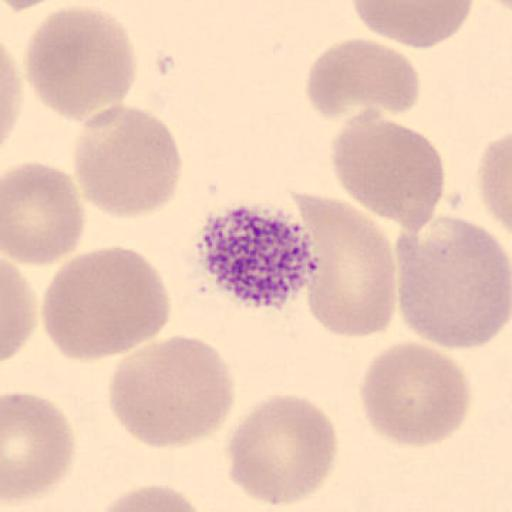Platelet: (196, 203, 322, 312)
RBC: (294, 191, 398, 341), (396, 214, 511, 348), (40, 246, 172, 362), (108, 333, 236, 450), (330, 115, 445, 235), (23, 5, 138, 122), (224, 393, 338, 507), (72, 103, 183, 219), (358, 338, 474, 448), (304, 37, 421, 120), (1, 159, 87, 268), (1, 391, 77, 505), (349, 0, 474, 49), (1, 258, 37, 364), (476, 130, 512, 231), (92, 484, 207, 512), (0, 44, 23, 148), (0, 0, 63, 11)
